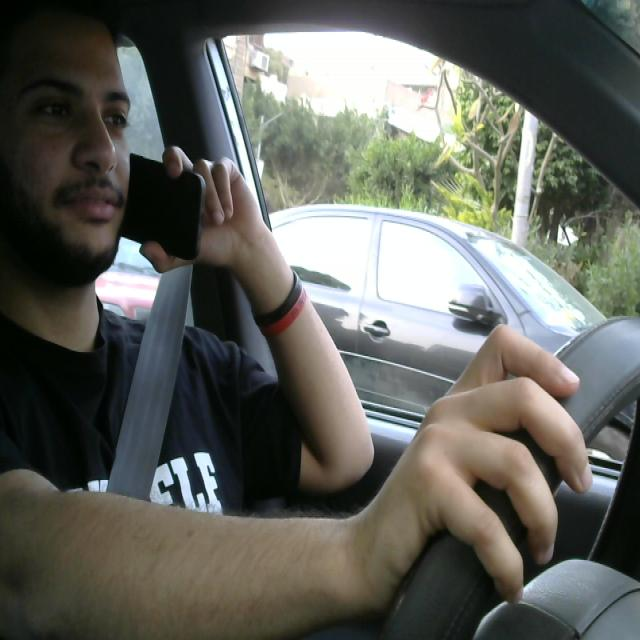mobile use: (102, 142, 209, 262)
